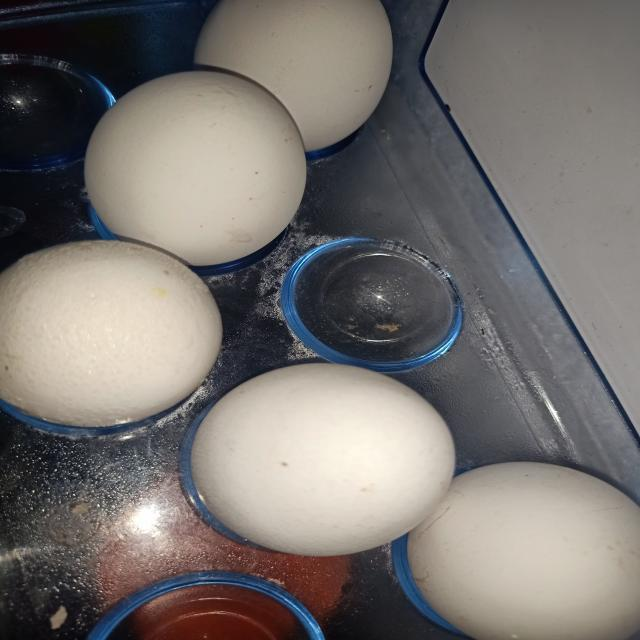Egg: (190, 364, 455, 557), (84, 70, 306, 266), (0, 240, 221, 428), (407, 463, 640, 640), (193, 0, 393, 150)
